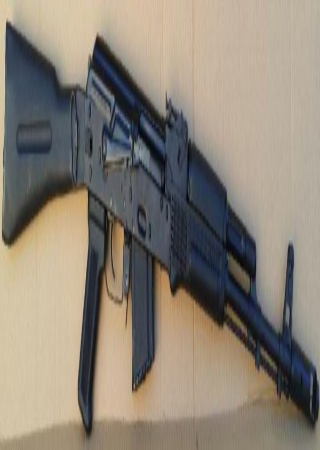rifle: (5, 13, 320, 429)
